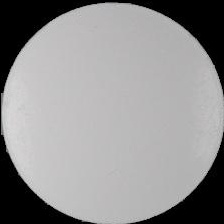55289-457: (0, 0, 224, 224)
